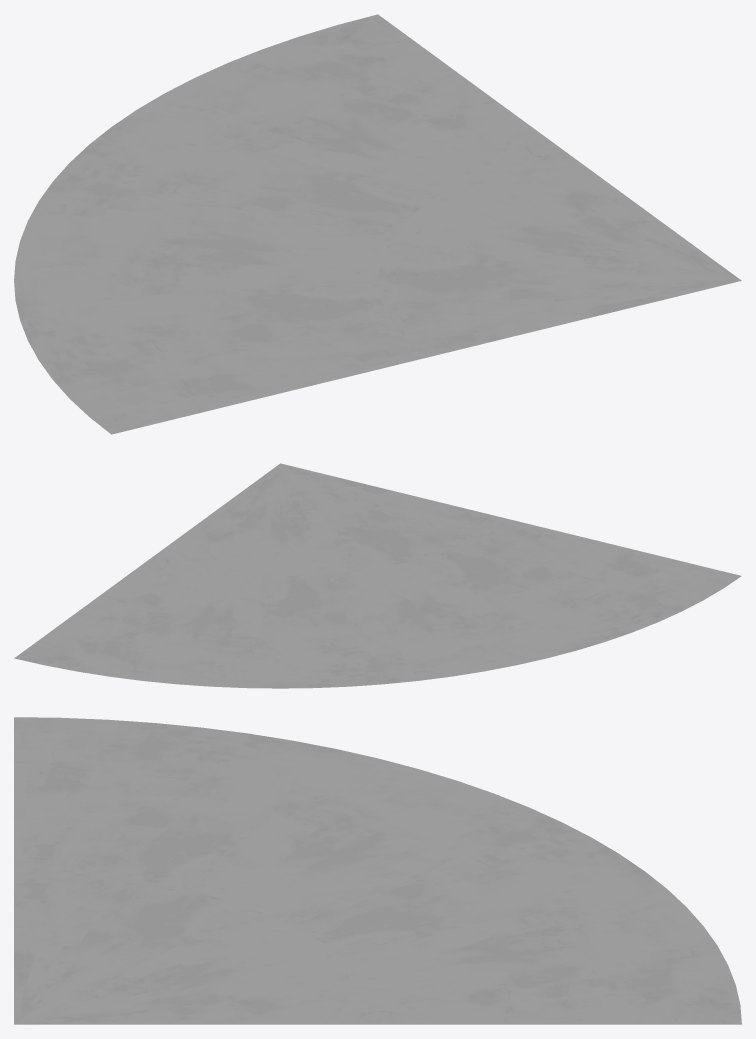
File: Platform_Simple2_Curve.glb
3 views of the same model, one above another, from view 1: azimuth 30°, elevation 25°; view 2: azimuth 150°, elevation 25°; view 3: azimuth 270°, elevation 25° (orthographic). The views are drawn at different scales.
Parts seen in each view (by area): view 1: Platform_Simple2_Curve; view 2: Platform_Simple2_Curve; view 3: Platform_Simple2_Curve.
Part boxes in pixels (x1,y1,x2,y2): Platform_Simple2_Curve: [14, 14, 741, 434]; Platform_Simple2_Curve: [14, 463, 741, 688]; Platform_Simple2_Curve: [14, 717, 741, 1024].
Size of the model in its own units: 4 by 0 by 4.
1 material, 1 textured.
